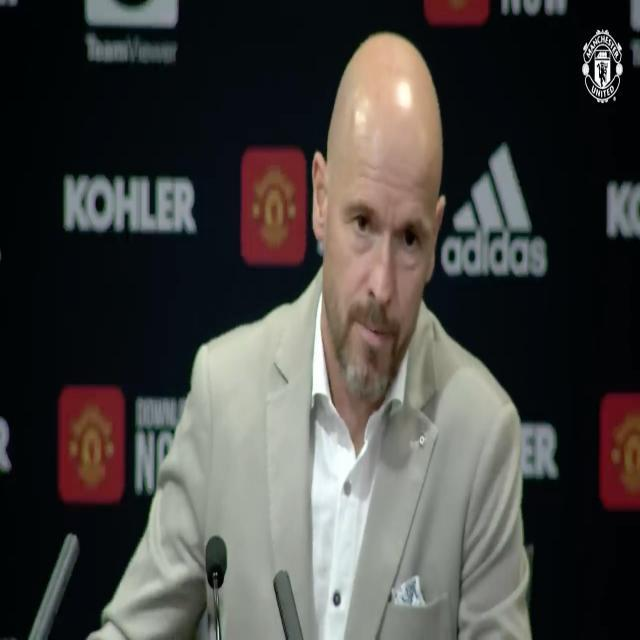Adidas: (439, 139, 548, 278)
Kohler: (65, 174, 196, 232)
TeamViewer: (85, 1, 180, 62)
